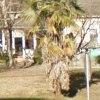Palm tree: (32, 1, 79, 61)
